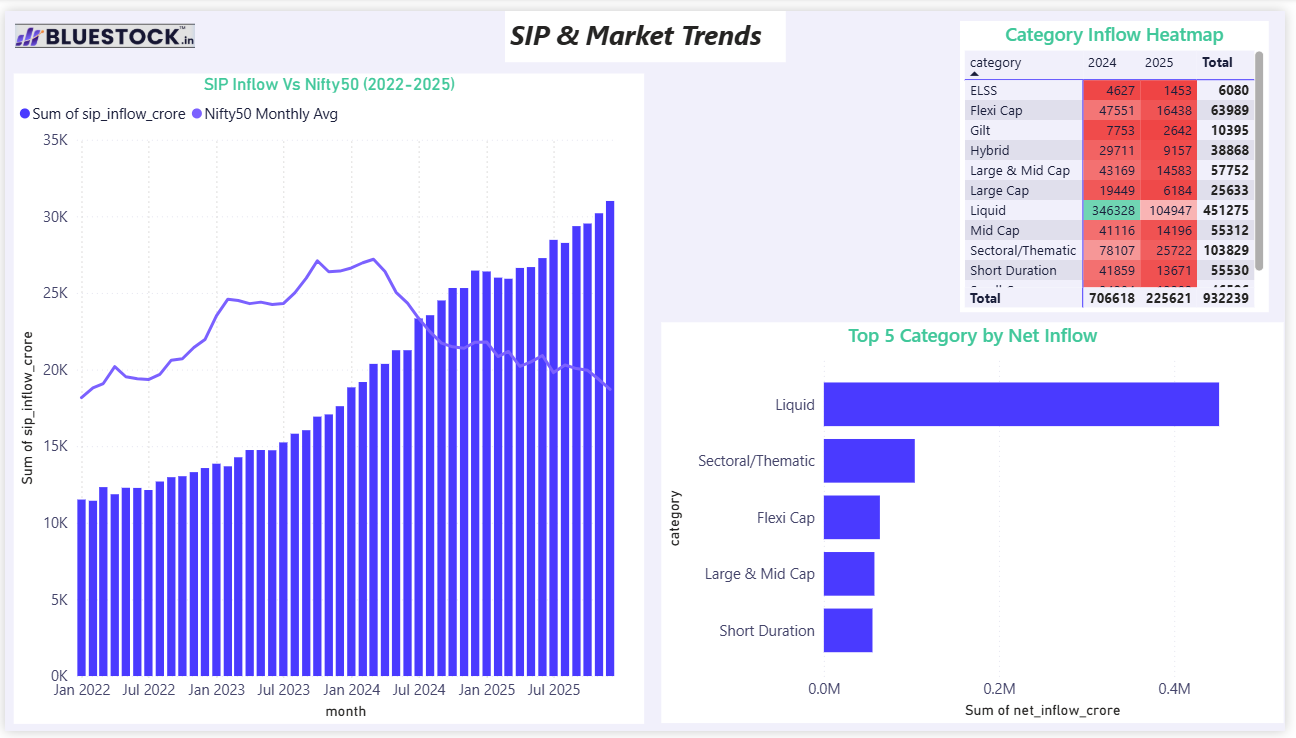

Layout of this report page (visuals, bound fields, positions):
{"tool":"powerbi","page":{"name":"Page 4","canvas":[1280,720],"ordinal":3},"visuals":[{"type":"image","box":[10,0,180,50],"z":0},{"type":"textbox","box":[500,0,280.7,51.1],"z":1},{"type":"pivotTable","title":"Category Inflow Heatmap","fields":{"Rows":["fact_category_inflows.category"],"Columns":["fact_category_inflows.month.Variation.Date Hierarchy.Year","fact_category_inflows.month.Variation.Date Hierarchy.Quarter","fact_category_inflows.month.Variation.Date Hierarchy.Month","fact_category_inflows.month.Variation.Date Hierarchy.Day"],"Values":["Sum(fact_category_inflows.net_inflow_crore)"]},"box":[955,10,308.8,291.2],"z":3},{"type":"clusteredBarChart","title":"Top 5 Category by Net Inflow","fields":{"Category":["fact_category_inflows.category"],"Y":["Sum(fact_category_inflows.net_inflow_crore)"]},"box":[656.8,311.4,622.7,401.1],"z":4},{"type":"lineClusteredColumnComboChart","title":"SIP Inflow Vs Nifty50 (2022-2025)","fields":{"Category":["fact_sip.month"],"Y":["Sum(fact_sip.sip_inflow_crore)"],"Y2":["fact_benchmark.Nifty50 Monthly Avg"]},"box":[9.1,62.5,630.7,650],"z":5}]}

Visuals, with their boxes in screenshot pixels (x1, y1, x2, y2), scaled from the page's 1280x720 canvas onto the 1296x738 screenshot:
image: 10 0 192 51
textbox: 506 0 790 52
"Category Inflow Heatmap" pivotTable: 967 10 1280 309
"Top 5 Category by Net Inflow" clusteredBarChart: 665 319 1295 730
"SIP Inflow Vs Nifty50 (2022-2025)" lineClusteredColumnComboChart: 9 64 648 730
